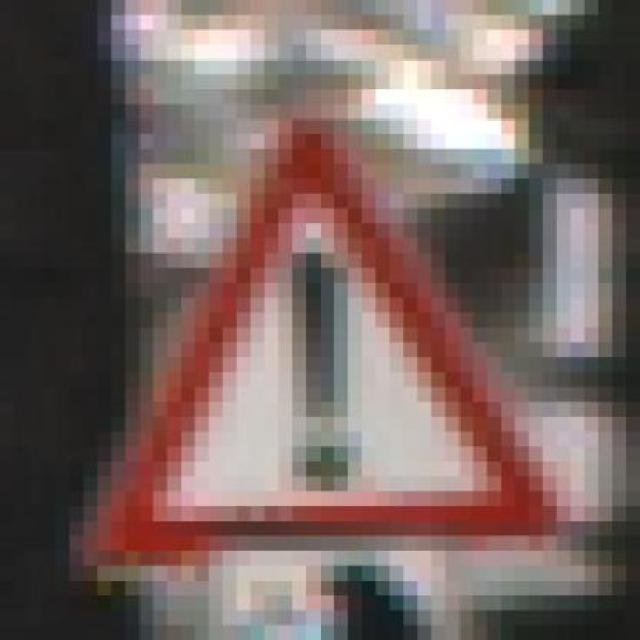Attention Please-: (57, 110, 558, 588)
